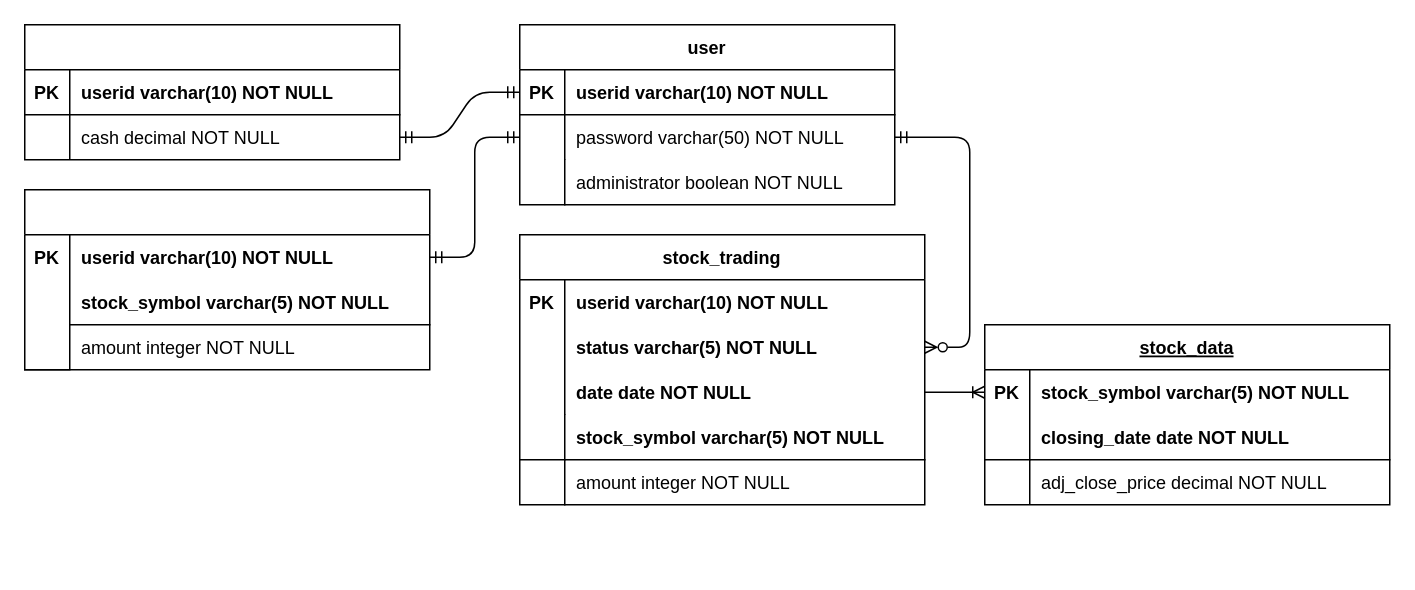
This 1415x590 diagram has some shape labels left out. The shapes that lost their labels are listed below. From the top down, each one's box as (x1, y1, x2, y2) in pixels, then its label:
(23, 23, 400, 160): user_cash
(23, 188, 430, 370): user_stock
